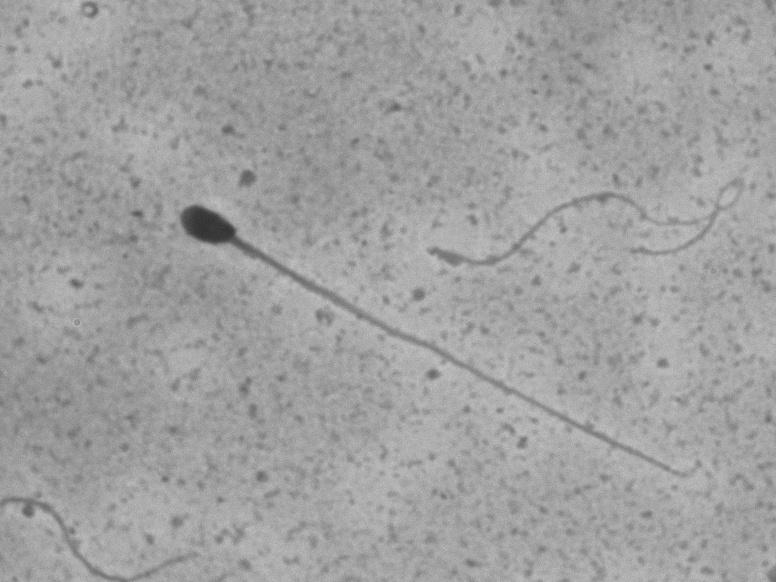Abnormal: (153, 180, 702, 500)
